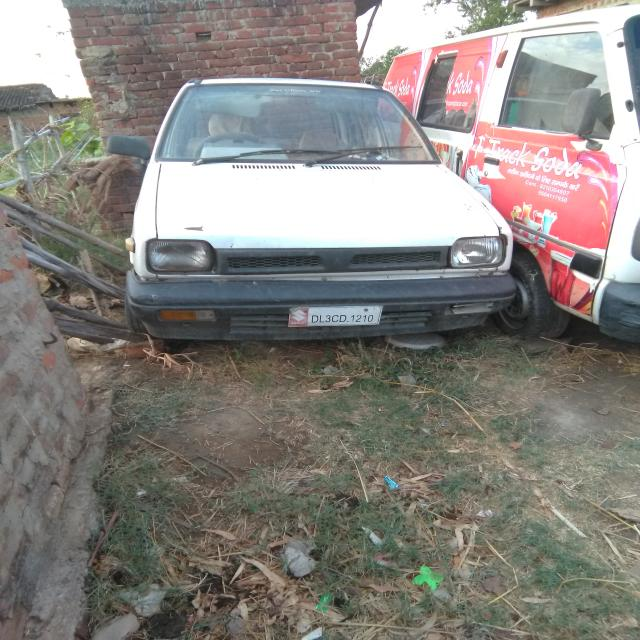Number_Plate_Detected: (287, 305, 383, 327)
